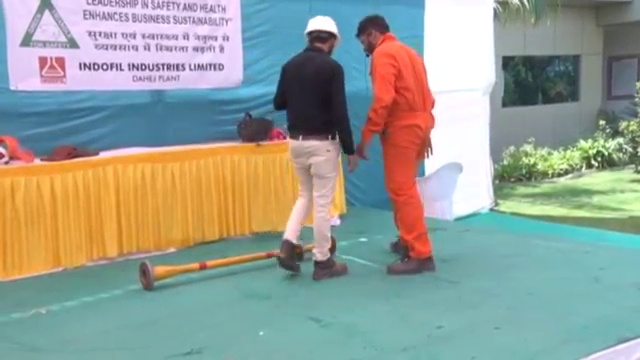helmet: (302, 14, 342, 47)
helmet_off: (352, 12, 392, 54)
helmet_on: (300, 13, 343, 54)
person: (353, 13, 440, 278), (276, 11, 352, 274)
